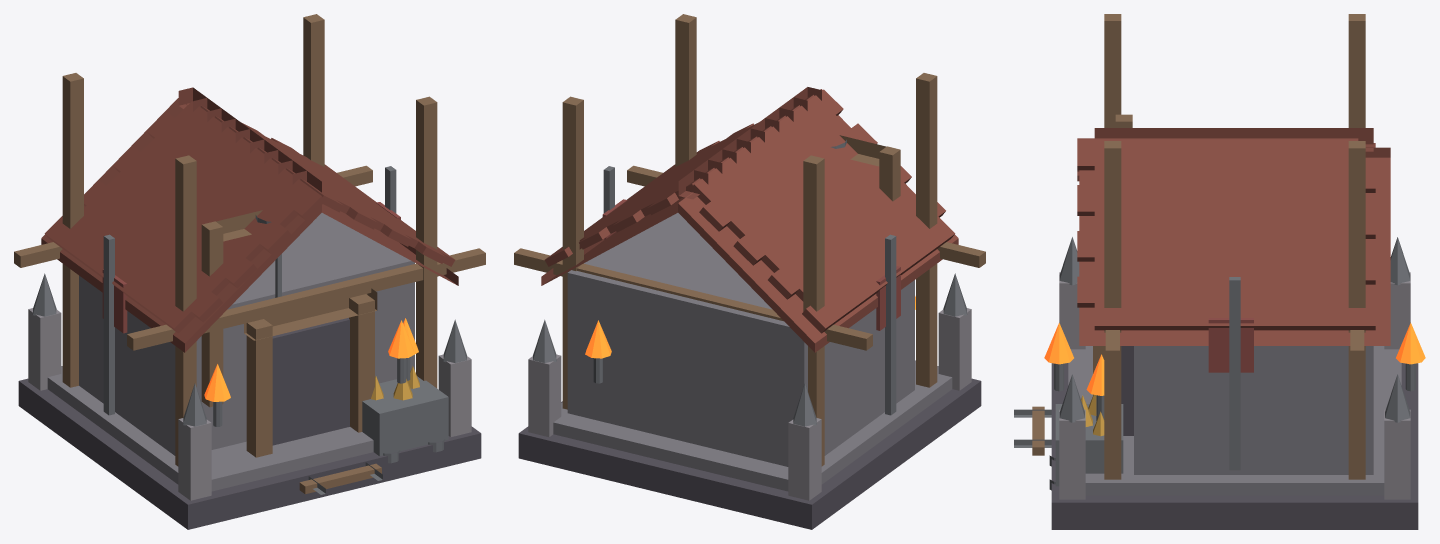
Rendered from gold_mine.glb.
3 renders of one model, left to right at view 1: azimuth 30°, elevation 25°; view 2: azimuth 150°, elevation 25°; view 3: azimuth 270°, elevation 25°, orthographic. The views are drawn at different scales.
Visible parts, largest first — view 1: Gothic Gold Mine; view 2: Gothic Gold Mine; view 3: Gothic Gold Mine.
Part boxes in pixels (x1,y1,x2,y2): Gothic Gold Mine: [14, 14, 485, 529]; Gothic Gold Mine: [514, 14, 985, 529]; Gothic Gold Mine: [1014, 14, 1425, 529].
Bounding box in the file's own units: 4.69 × 4.36 × 4.38.
